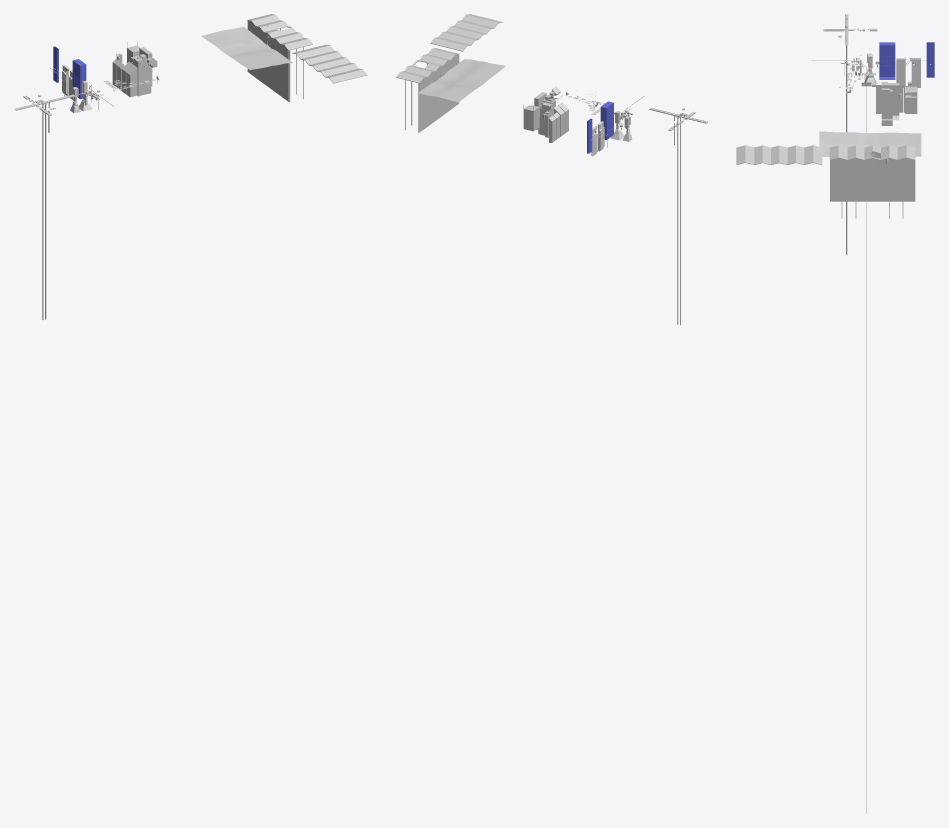
The model's file is Props.fbx.
The picture shows the model from 3 angles, left to right: view 1: azimuth 30°, elevation 25°; view 2: azimuth 150°, elevation 25°; view 3: azimuth 270°, elevation 25°; orthographic projection. The views are drawn at different scales.
Parts seen in each view (by area): view 1: Factory_OpenField, Factory_BarnRoof_Backup, Factory_Barn, Factory_BarnRoof, CityDeconstructedBuilding; view 2: Factory_OpenField, Factory_BarnRoof_Backup, Factory_Barn, Factory_BarnRoof; view 3: Factory_Barn, Factory_OpenField, Factory_BarnRoof_Backup, Factory_BarnRoof, CityDeconstructedBuilding, Background_ScaffoldEndless, SkyScraperWall, SkyScraperBarrierOpening, Factory_BarnRoofRafters.
Boxes of the visible parts, left/top/right/bottom form: Factory_OpenField: left=201, top=27, right=292, bottom=69; Factory_BarnRoof_Backup: left=292, top=44, right=367, bottom=83; Factory_Barn: left=247, top=20, right=289, bottom=101; Factory_BarnRoof: left=247, top=14, right=312, bottom=50; CityDeconstructedBuilding: left=131, top=47, right=152, bottom=96; Factory_OpenField: left=417, top=59, right=505, bottom=102; Factory_BarnRoof_Backup: left=430, top=14, right=502, bottom=51; Factory_Barn: left=419, top=54, right=459, bottom=132; Factory_BarnRoof: left=396, top=48, right=458, bottom=83; Factory_Barn: left=830, top=152, right=915, bottom=201; Factory_OpenField: left=819, top=131, right=921, bottom=156; Factory_BarnRoof_Backup: left=736, top=145, right=822, bottom=165; Factory_BarnRoof: left=829, top=145, right=915, bottom=160; CityDeconstructedBuilding: left=881, top=81, right=899, bottom=125; Background_ScaffoldEndless: left=864, top=65, right=866, bottom=813; SkyScraperWall: left=879, top=42, right=895, bottom=79; SkyScraperBarrierOpening: left=896, top=58, right=920, bottom=87; Factory_BarnRoofRafters: left=841, top=158, right=903, bottom=218.
Size of what is drawn, in the model's own units: 1479986 by 3511559 by 818701.
